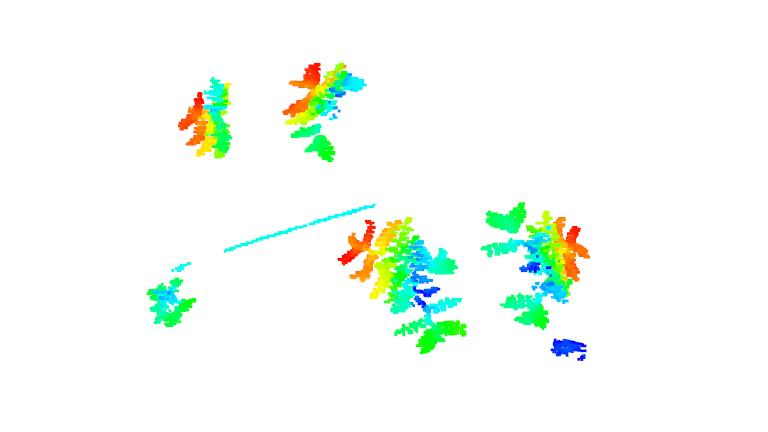chickpea: (338, 212, 470, 353), (480, 201, 591, 333), (286, 61, 370, 164), (174, 77, 238, 160), (145, 274, 195, 331)
